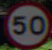Speed limit: (4, 3, 46, 44)
